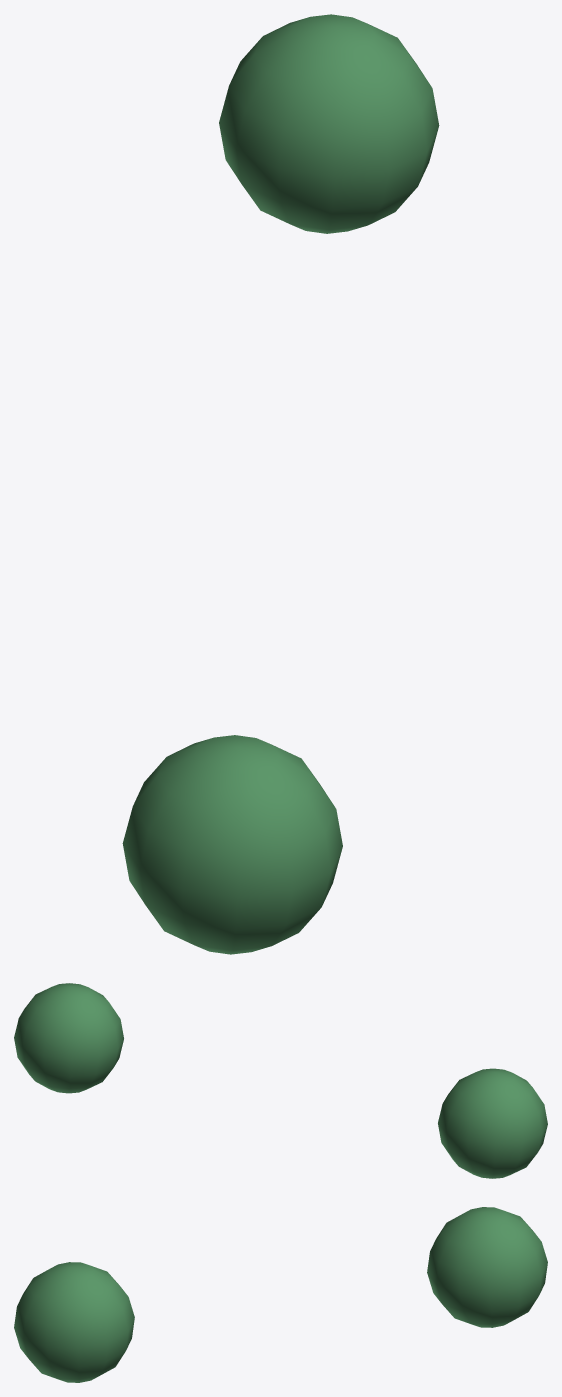
3 views of the same model, one above another, from view 1: azimuth 30°, elevation 25°; view 2: azimuth 150°, elevation 25°; view 3: azimuth 270°, elevation 25° (orthographic). The views are drawn at different scales.
Visible parts, largest first — view 1: 左侧腹壁下淋巴结; view 2: 左侧腹壁下淋巴结; view 3: 左侧腹壁下淋巴结.
Boxes of the visible parts, <box> form: 左侧腹壁下淋巴结: <box>122,14,439,954</box>; 左侧腹壁下淋巴结: <box>14,983,547,1178</box>; 左侧腹壁下淋巴结: <box>14,1207,547,1382</box>.
Size of the model in its own units: 0.0133 by 0.0102 by 0.0169.
